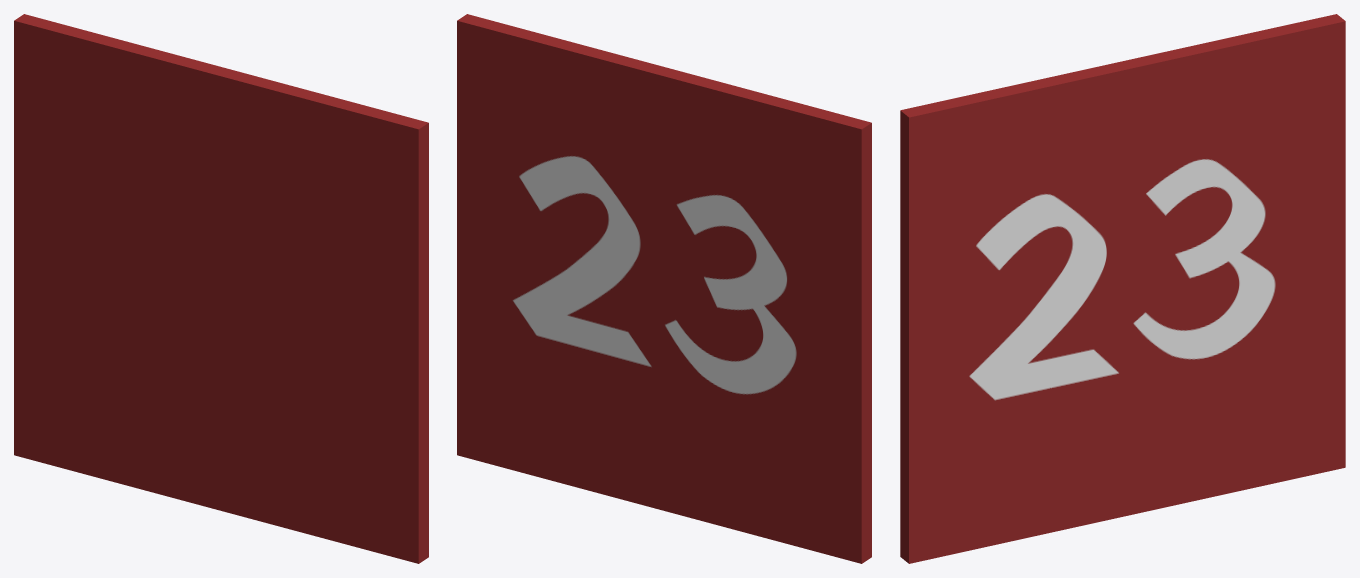
File: flap22.glb
3 views of the same model, side by side, from view 1: azimuth 30°, elevation 25°; view 2: azimuth 210°, elevation 25°; view 3: azimuth 270°, elevation 25° (orthographic). The views are drawn at different scales.
Visible parts, largest first — view 1: flap.022; view 2: flap.022; view 3: flap.022.
Part boxes in pixels (x1,y1,x2,y2): flap.022: [14, 14, 428, 563]; flap.022: [457, 14, 871, 563]; flap.022: [900, 14, 1345, 563].
Bounding box in the file's own units: 0.1244 × 0.25 × 0.2262.
Materials: 1 (1 with a texture image).
